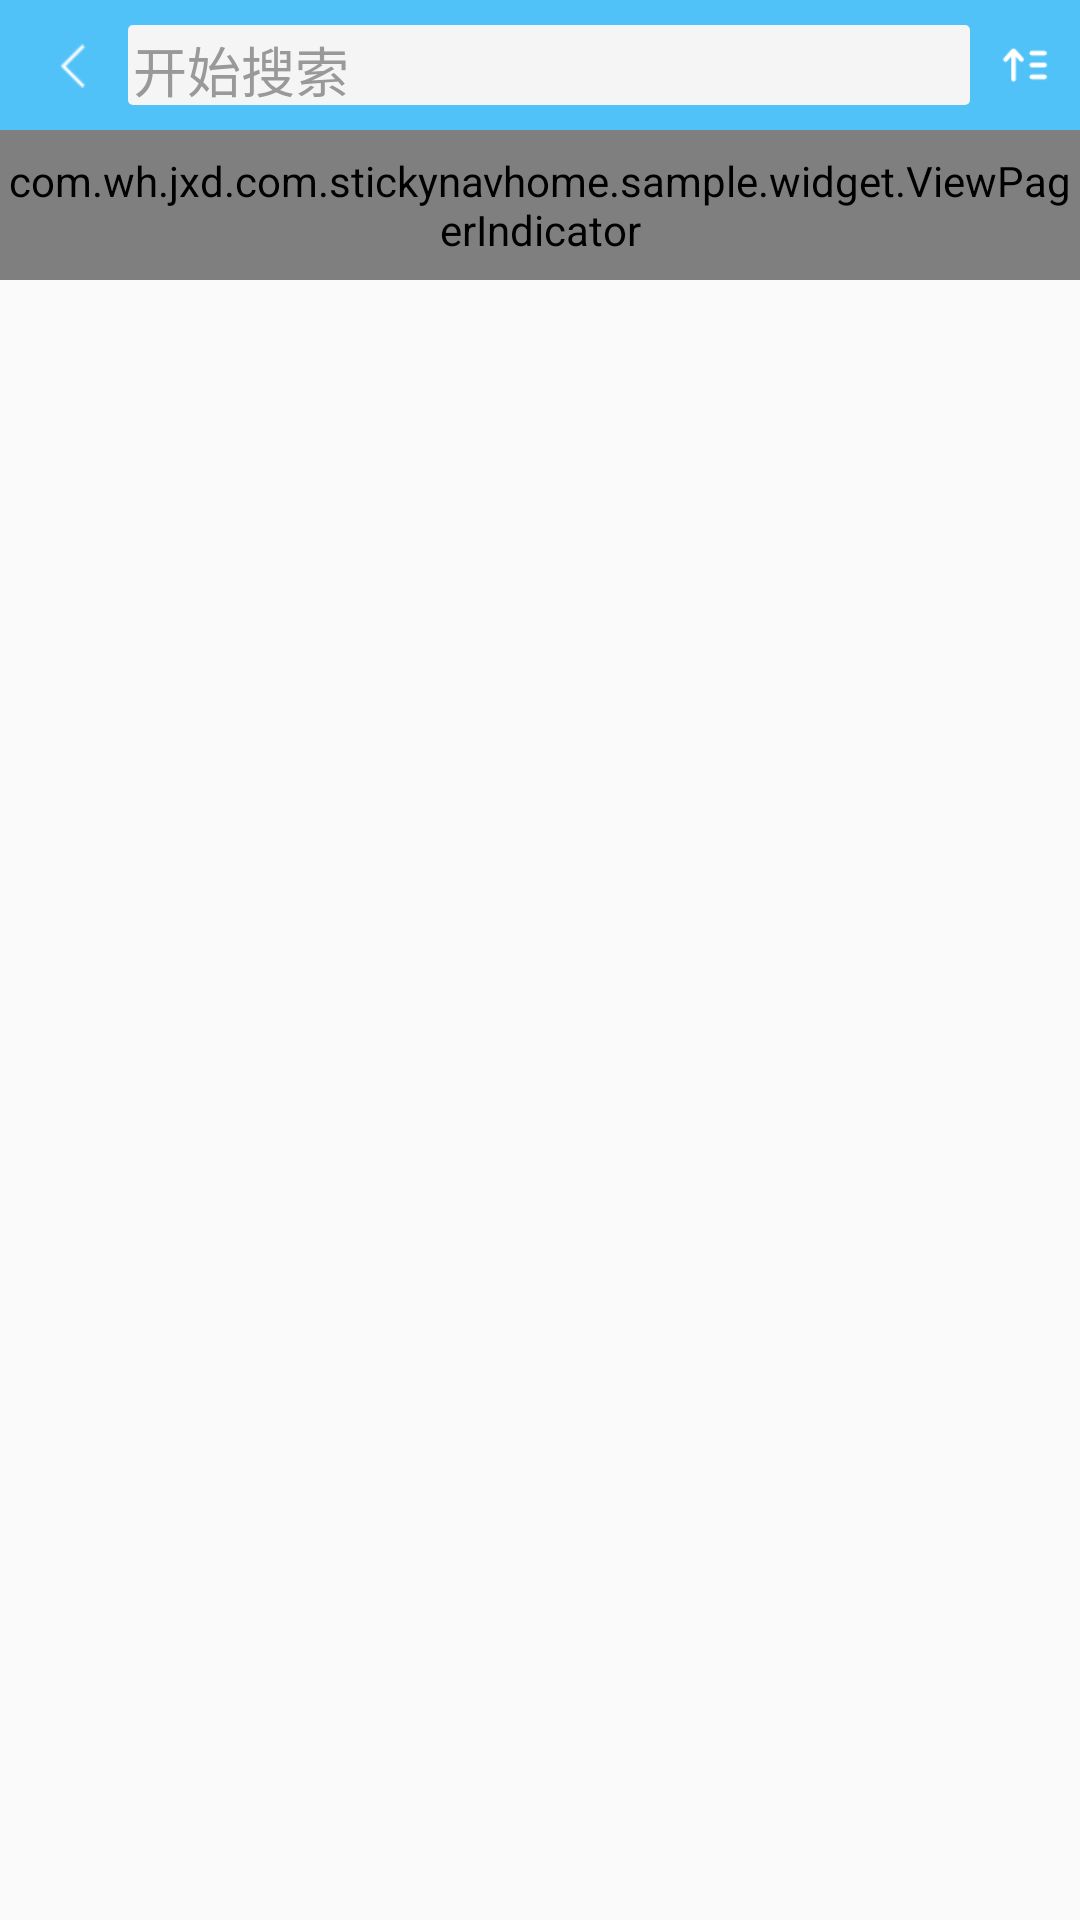

Icon click points for this 1080×1920 phone screenshot, format (x,y):
back: (73,66)
order: (1025,65)
